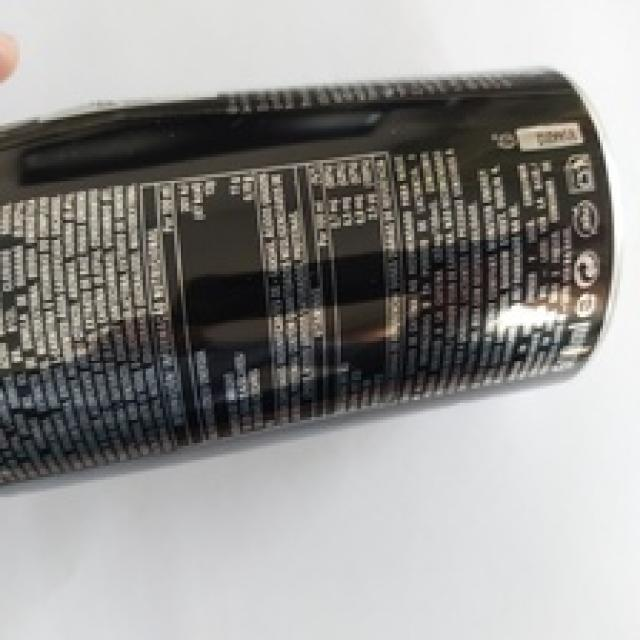recyclable: (0, 65, 617, 483)
